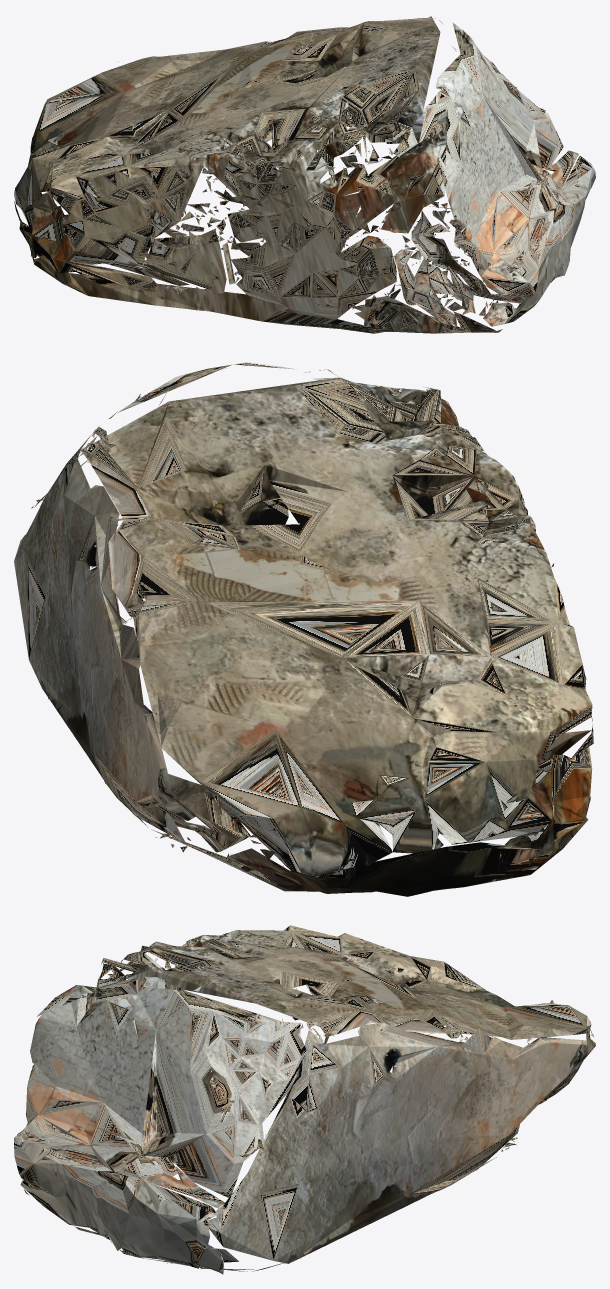
Rendered from FRAG-S1-FS-002.glb.
3 renders of one model, top to bottom at view 1: azimuth 30°, elevation 25°; view 2: azimuth 150°, elevation 25°; view 3: azimuth 270°, elevation 25°, orthographic. The views are drawn at different scales.
Parts seen in each view (by area): view 1: geometry_0; view 2: geometry_0; view 3: geometry_0.
Part boxes in pixels (x1,y1,x2,y2): geometry_0: (14, 16, 595, 333); geometry_0: (14, 362, 593, 896); geometry_0: (14, 925, 595, 1274).
Bounding box in the file's own units: 1.56 × 0.7003 × 1.58.
1 material, 1 textured.
